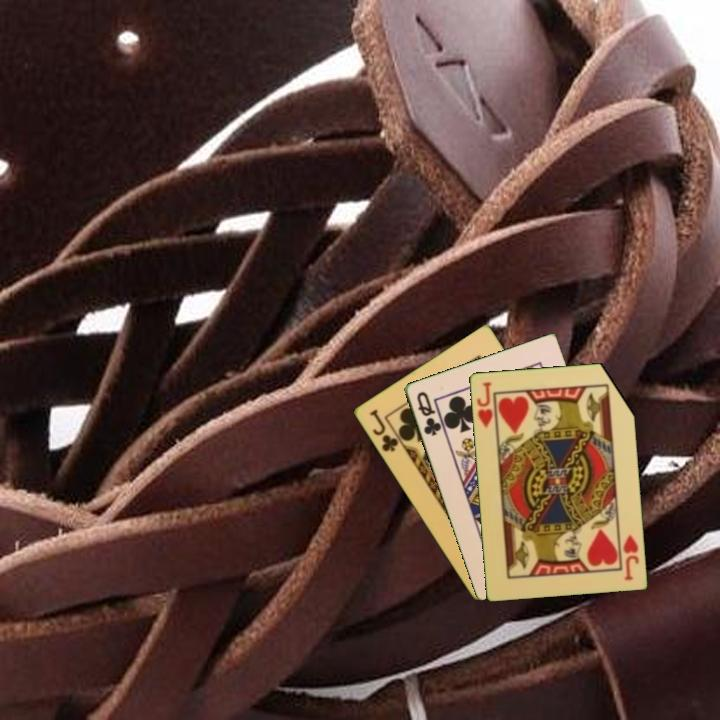Jc: (366, 405, 401, 455)
Jh: (473, 378, 495, 430), (619, 531, 641, 583)
Qc: (413, 388, 444, 439)
